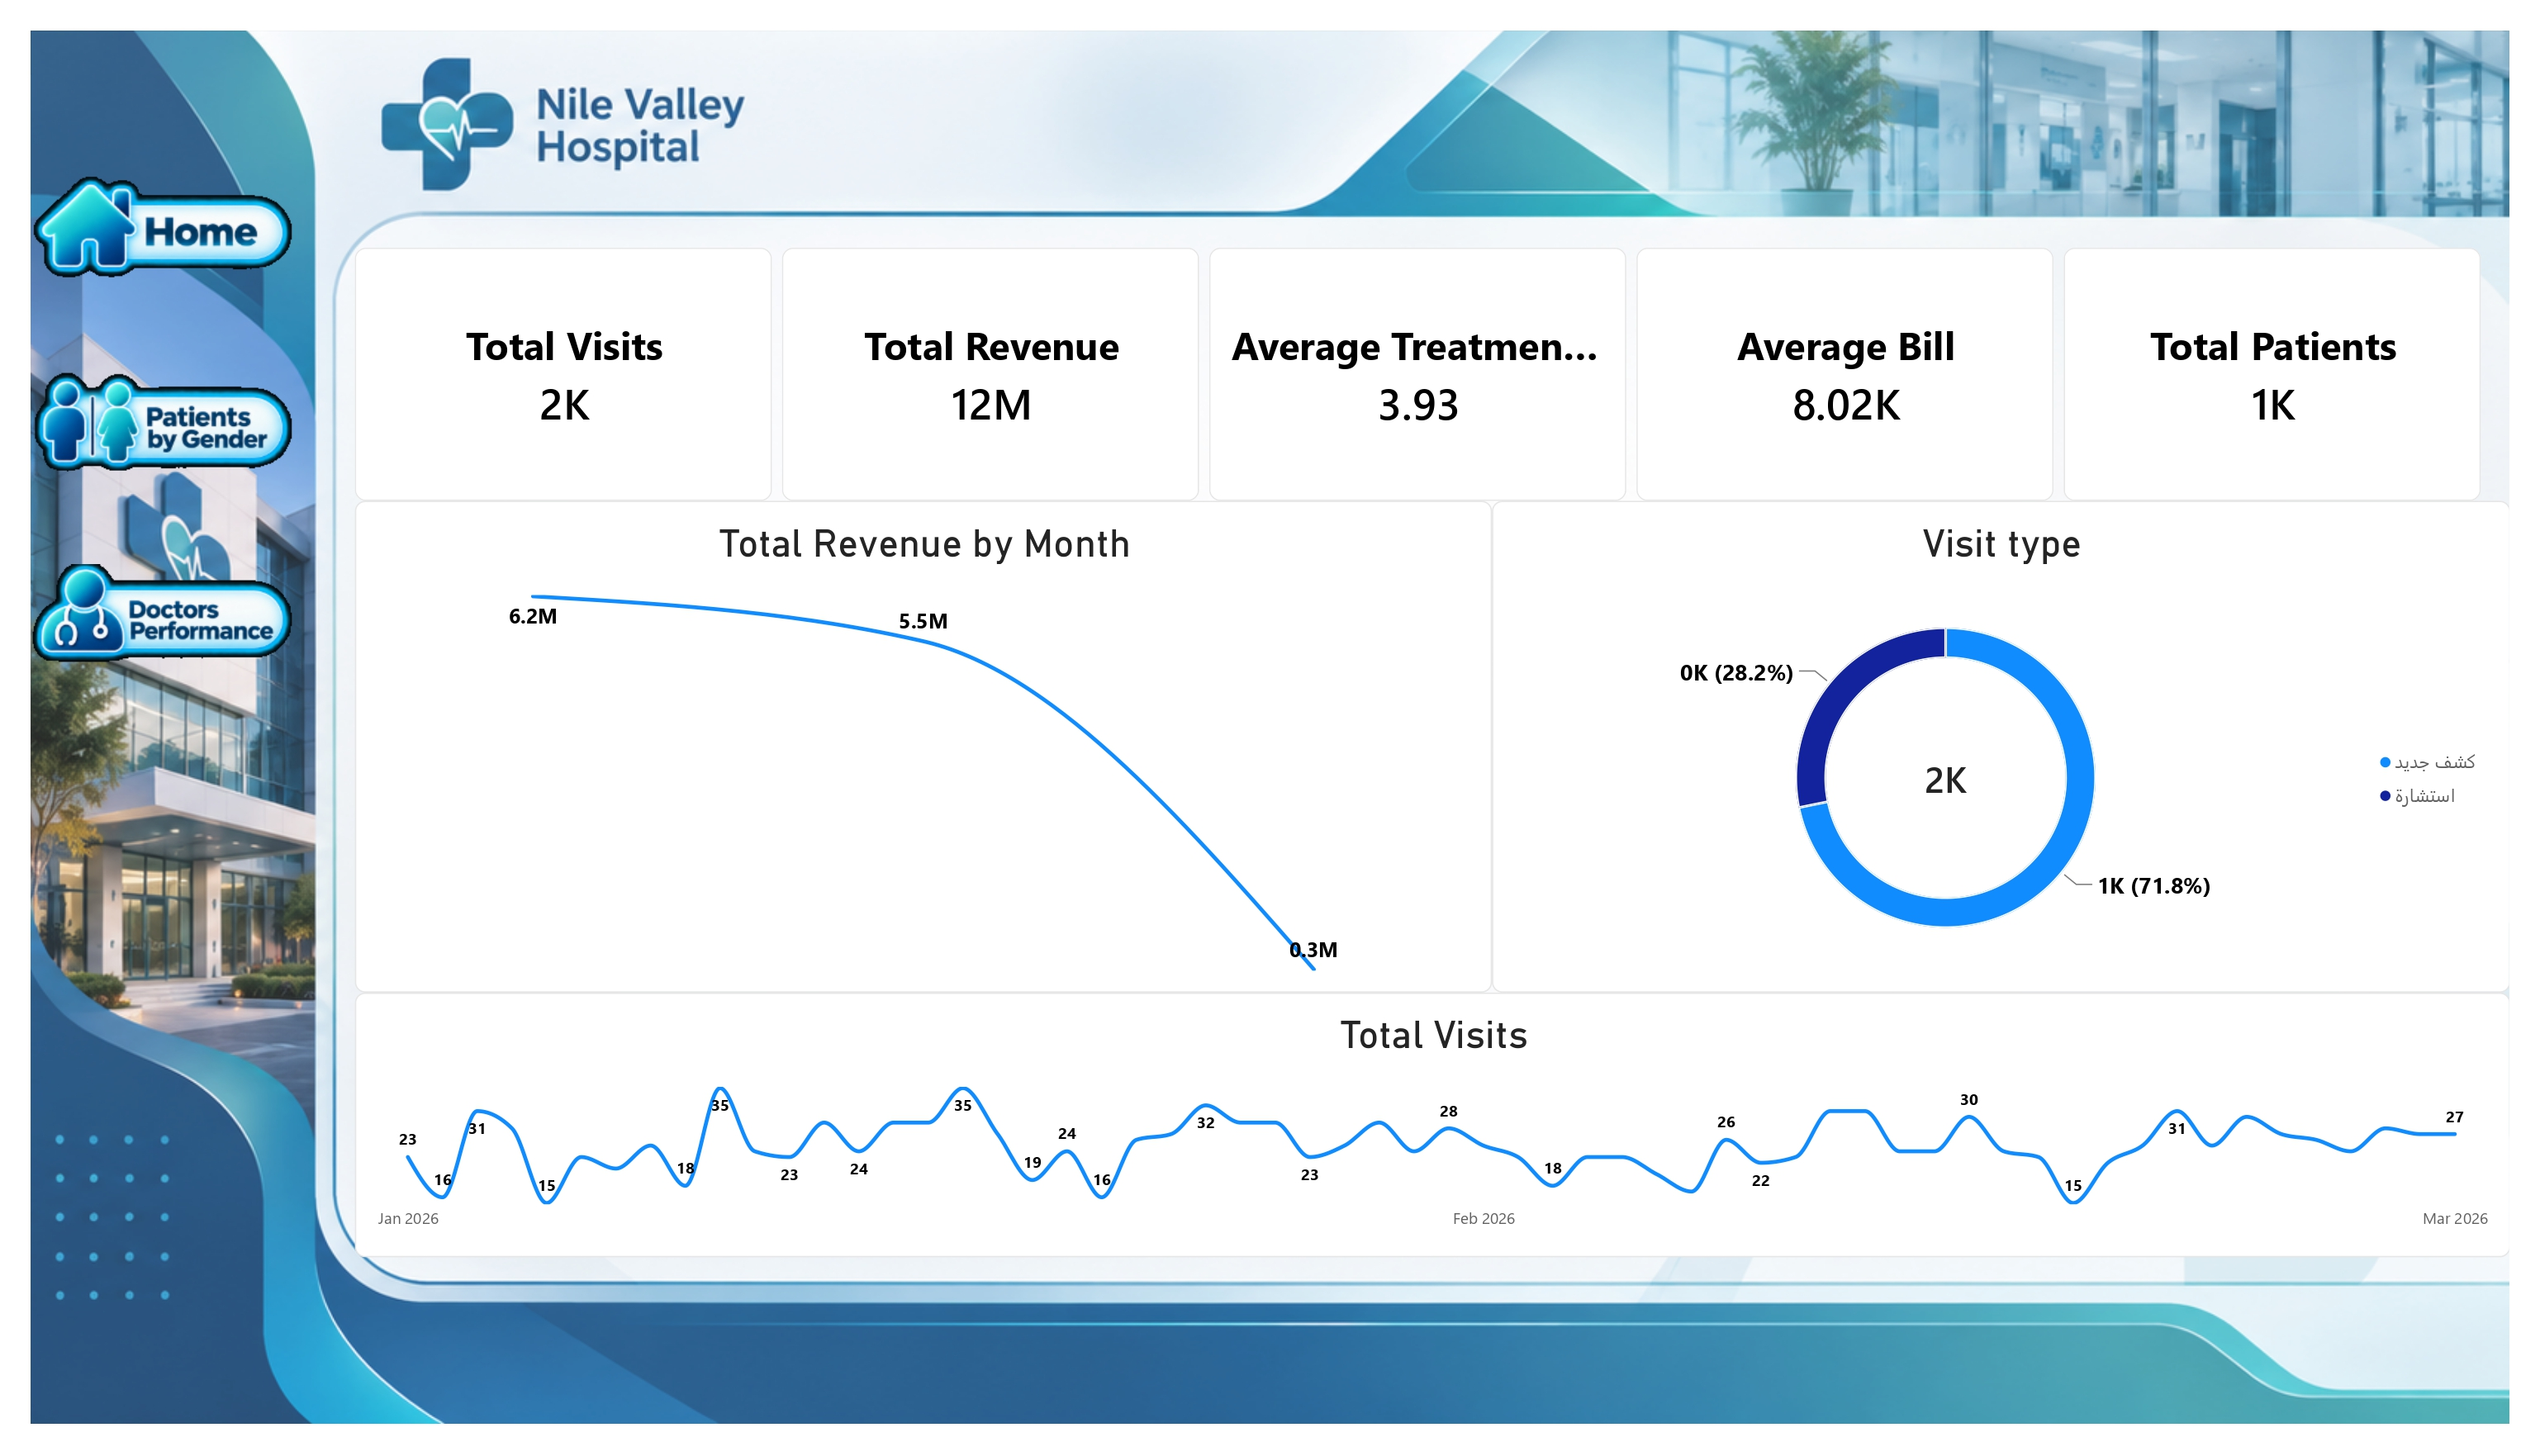

This screenshot's page, from the dashboard's own definition file:
{"tool":"powerbi","page":{"name":"DashBord","canvas":[1920,1080],"ordinal":1},"visuals":[{"type":"cardVisual","fields":{"Data":["Dax.Total Visits","Dax.Total Revenue","Dax.Average Treatment Days","Dax.Average Bill","Dax.Total Patients"]},"box":[251.4,167.6,1650.6,196.8],"z":0},{"type":"lineChart","title":"Total Visits","fields":{"Y":["Dax.Total Visits"],"Category":["visits.تاريخ_الدخول.Variation.Date Hierarchy.Year","visits.تاريخ_الدخول.Variation.Date Hierarchy.Quarter","visits.تاريخ_الدخول.Variation.Date Hierarchy.Month","visits.تاريخ_الدخول.Variation.Date Hierarchy.Day"]},"box":[251.4,744.8,1669.2,204.8],"z":1000},{"type":"lineChart","fields":{"Category":["visits.تاريخ_الدخول.Variation.Date Hierarchy.Month"],"Y":["Dax.Total Revenue"]},"box":[251.4,364.4,880.5,380.4],"z":2000},{"type":"donutChart","title":"Visit type","fields":{"Category":["visits.نوع_الزيارة"],"Y":["Dax.Total Visits"]},"box":[1131.9,364.4,788.7,380.4],"z":3000},{"type":"image","box":[0,75.8,206.2,150.3],"z":4000},{"type":"image","box":[0,226.1,206.2,150.3],"z":5000},{"type":"image","box":[0,376.4,206.2,150.3],"z":6000}]}

Visuals, with their boxes on the page's 1920x1080 design canvas (x1, y1, x2, y2). These are canvas units, not pixel positions in the 2540x1456 screenshot, which may show the page scaled, cropped or inside an application window:
cardVisual - Dax.Total Visits x Dax.Total Revenue: pyautogui.locateOnScreen(251, 168, 1902, 364)
"Total Visits" lineChart: pyautogui.locateOnScreen(251, 745, 1921, 950)
lineChart - visits.تاريخ_الدخول.Variation.Date Hierarchy.Month x Dax.Total Revenue: pyautogui.locateOnScreen(251, 364, 1132, 745)
"Visit type" donutChart: pyautogui.locateOnScreen(1132, 364, 1921, 745)
image: pyautogui.locateOnScreen(0, 76, 206, 226)
image: pyautogui.locateOnScreen(0, 226, 206, 376)
image: pyautogui.locateOnScreen(0, 376, 206, 527)
